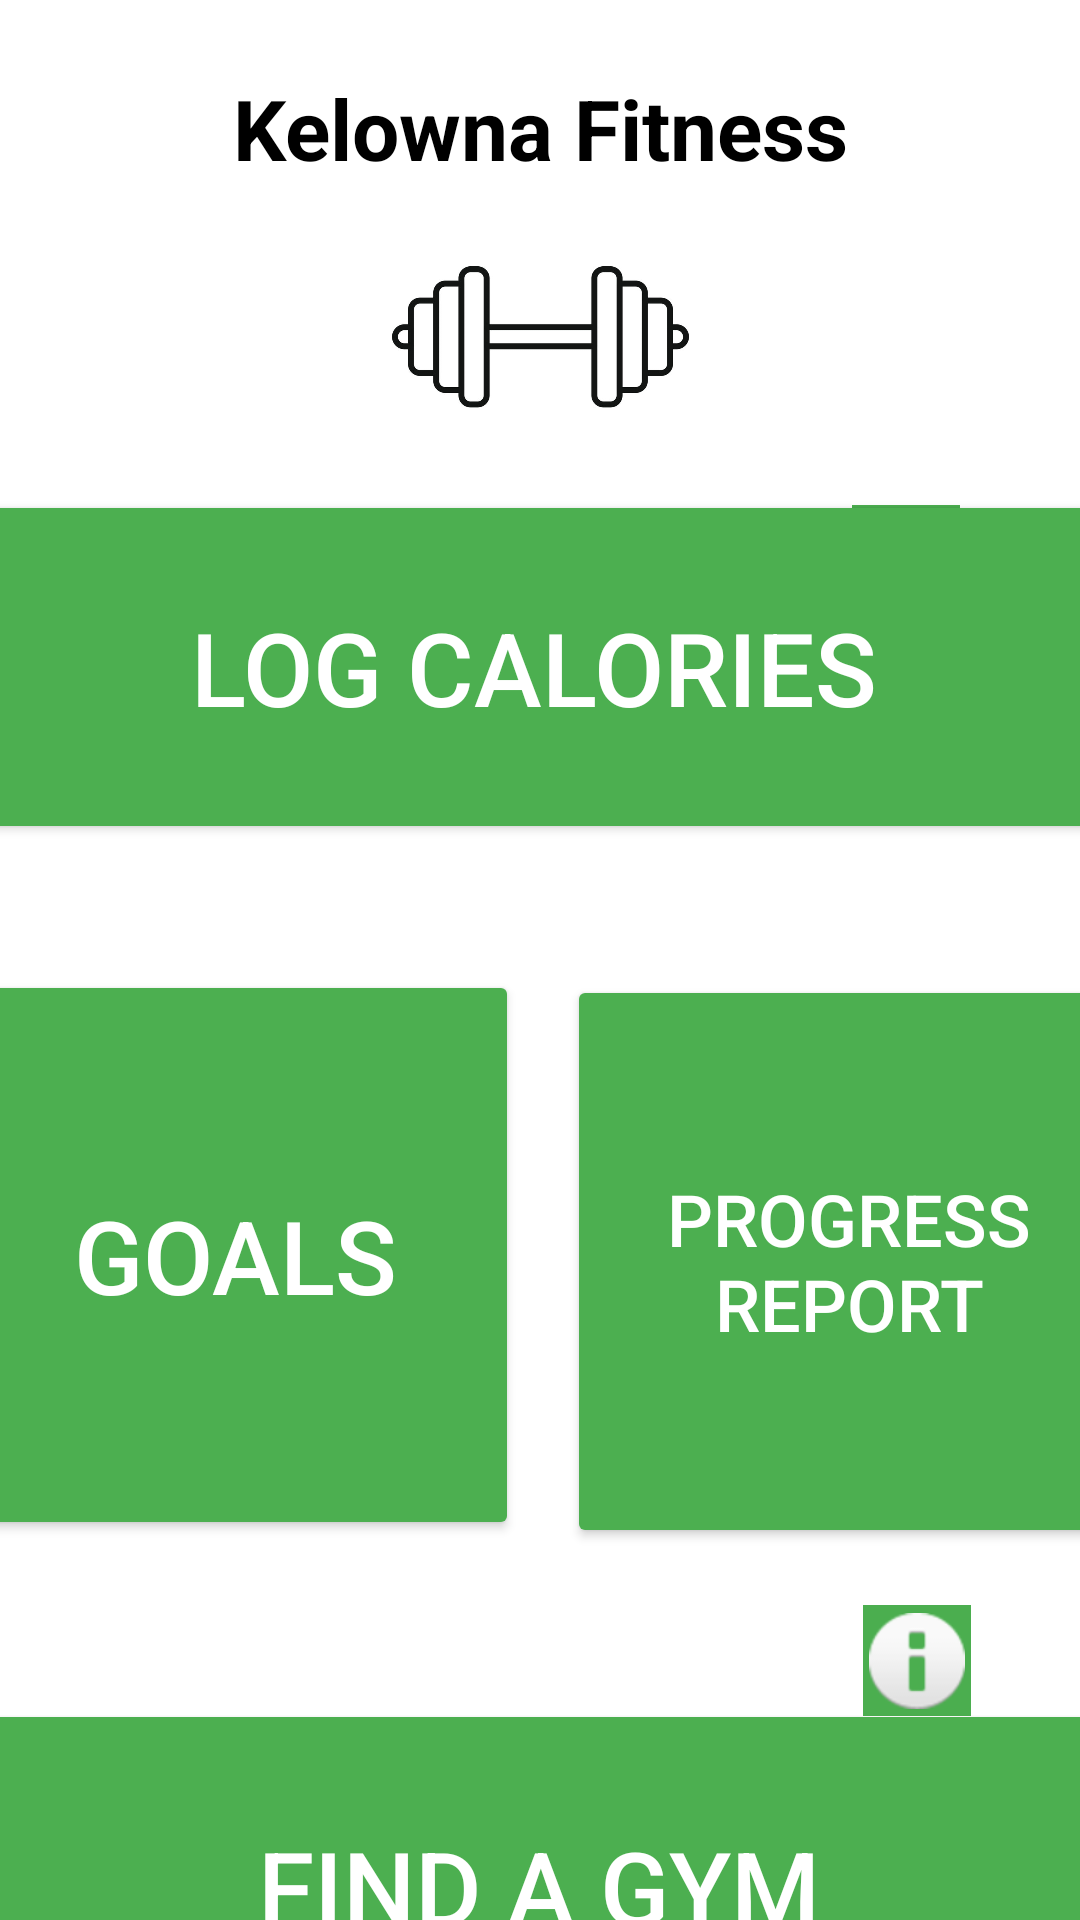

Named icons in this screenshot (1080×1920) and their centers, point (x, y):
dumbbell: point (540, 337)
info: point (917, 1660)
